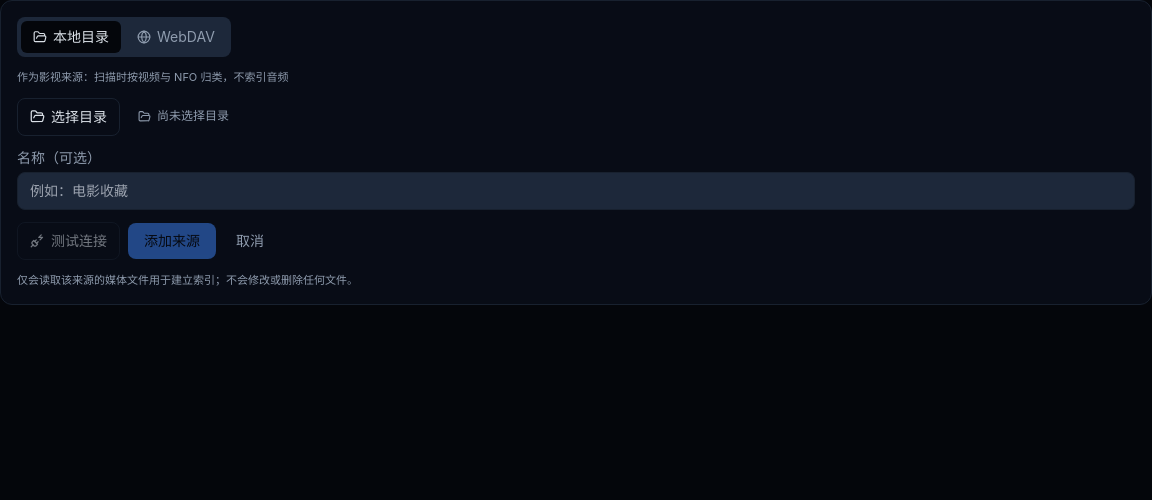
Scenario: WebDAV source form › shows the capability line after a successful test
The width and height of the screenshot is (1152, 500).
Click the tab "WebDAV". click: (176, 37)
box: x1=125 y1=21 x2=227 y2=53
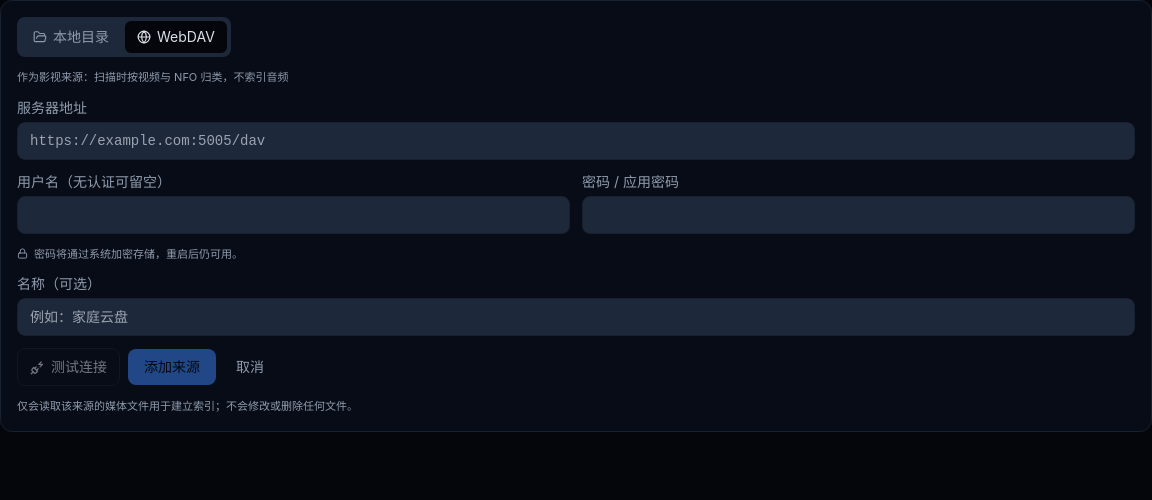
Type "https://example.com/dav" into the field labelled "服务器地址". click: (576, 140)
box: x1=17 y1=122 x2=1135 y2=160
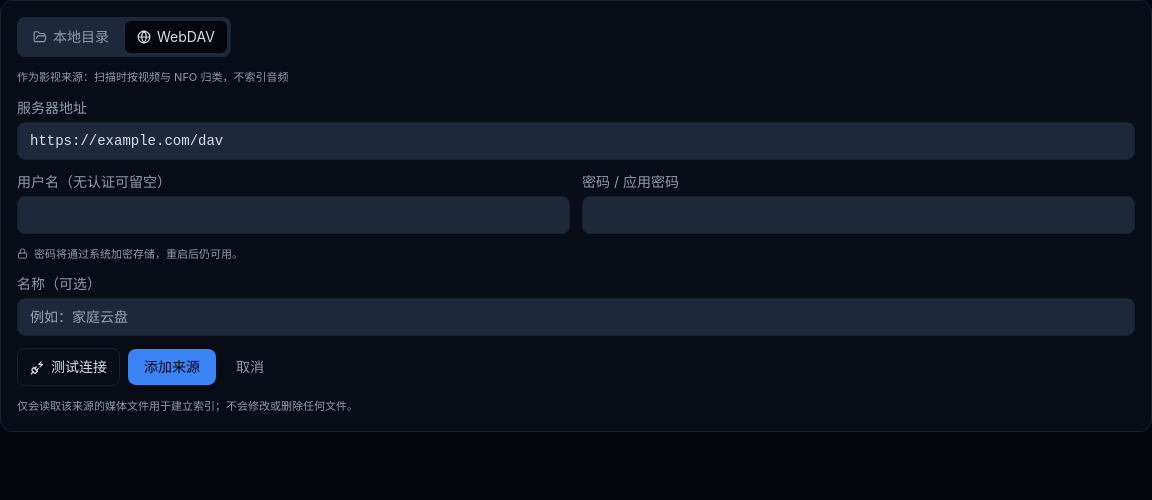
Click the button "测试连接". click: (68, 367)
box: x1=17 y1=348 x2=120 y2=386
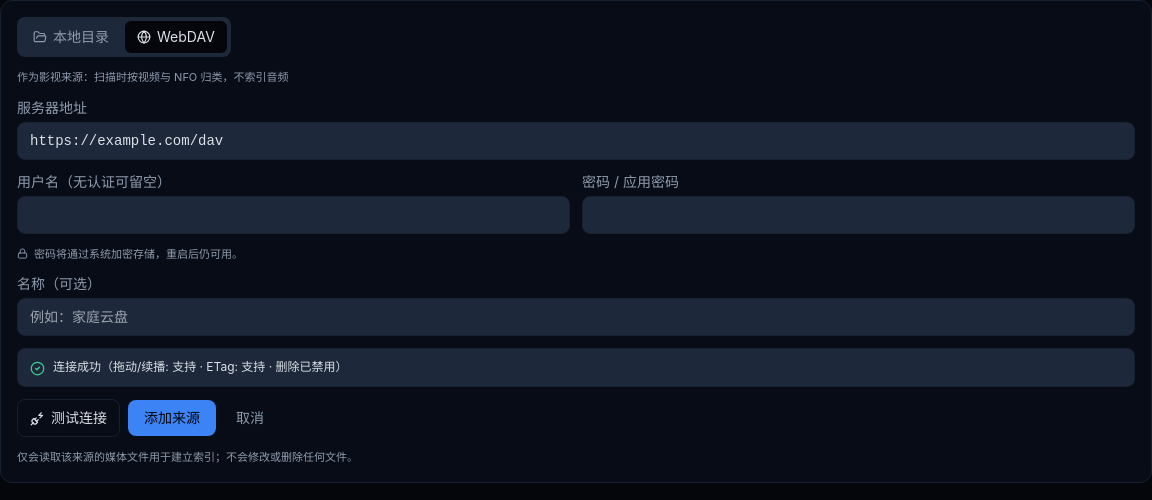
Now the text "连接成功（拖动/续播: 支持 · ETag: 支持 · 删除已禁用）" is shown, box x1=53 y1=359 x2=348 y2=375
